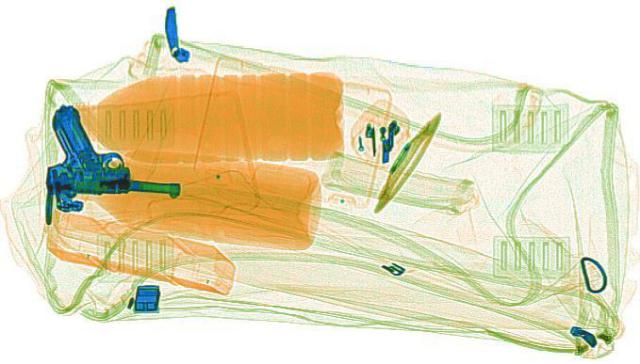Gun: (9, 101, 136, 199), (35, 160, 187, 200)
